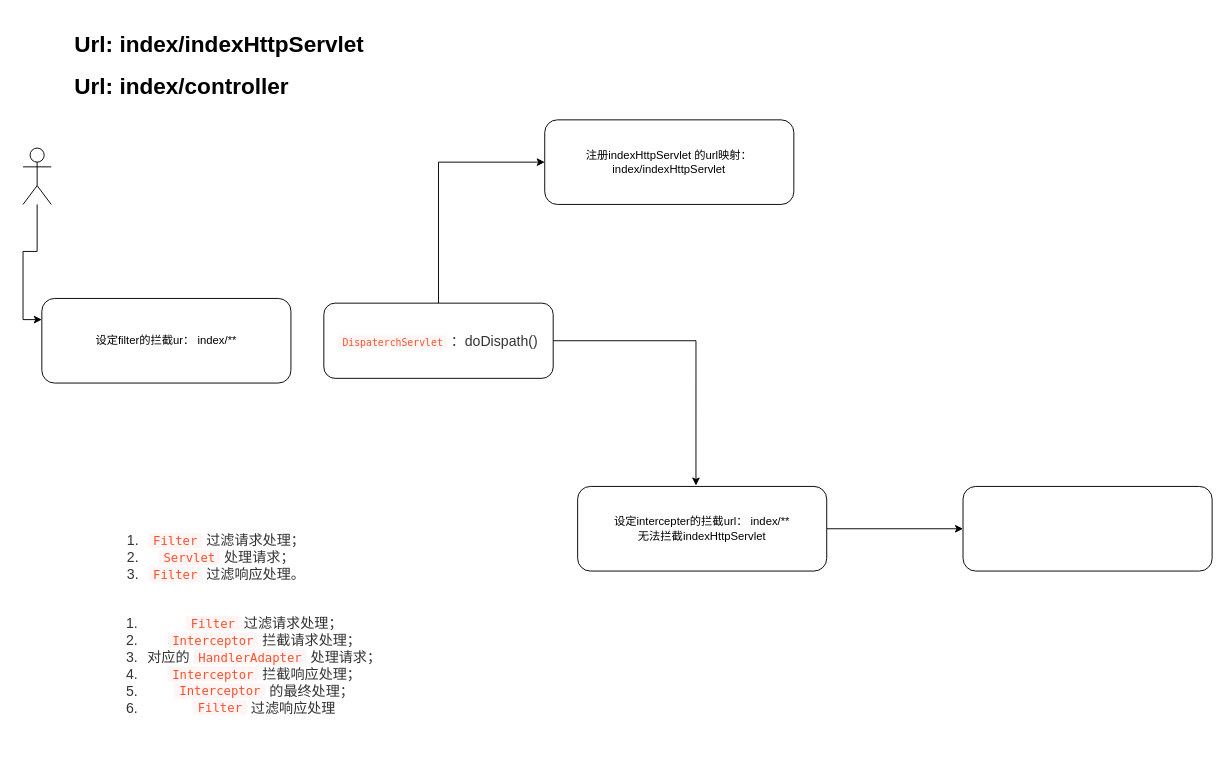
The diagram is 1229 pixels wide and 764 high, and some of its shapes have lost their labels. The centre of each missing label's shape, as x and y in pixels:
"Actor" goes at pixel 36 175.
"注册controller (handler) 的url映射： index/controller" goes at pixel 1087 528.
